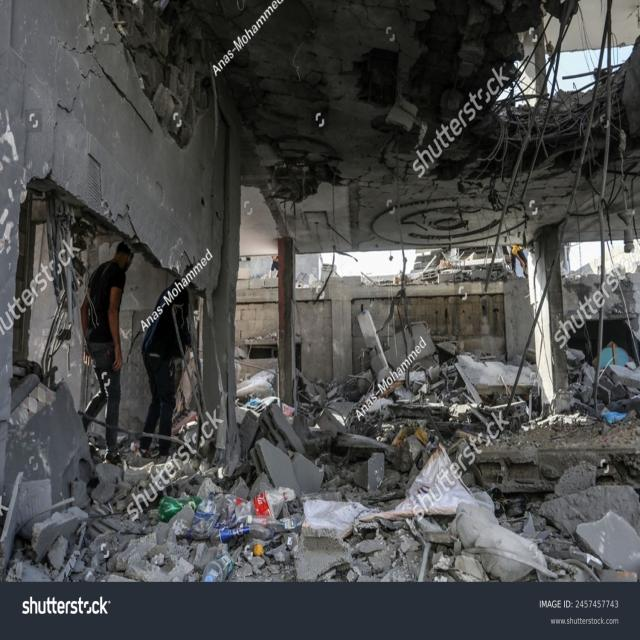Destroyed_building: (2, 0, 639, 579)
